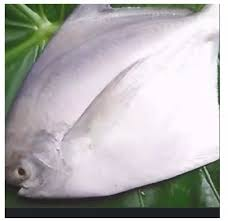Ikan Bawal: (5, 5, 220, 202)
